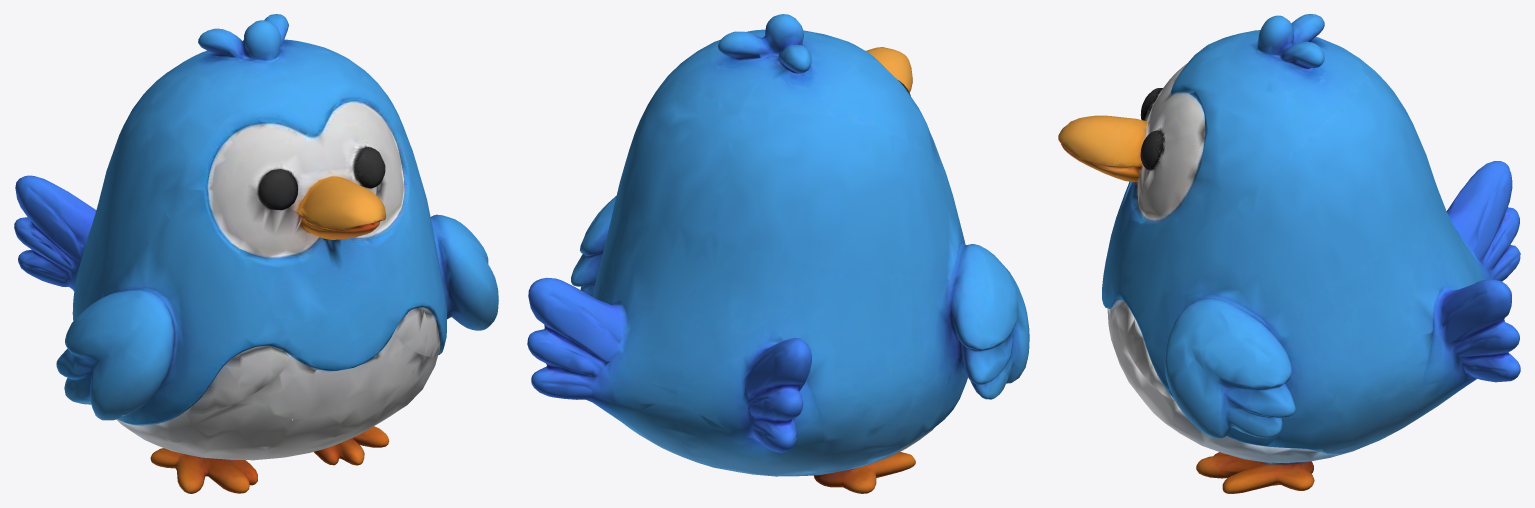
Rendered from p-pajaro.glb.
3 renders of one model, left to right at view 1: azimuth 30°, elevation 25°; view 2: azimuth 150°, elevation 25°; view 3: azimuth 270°, elevation 25°, orthographic. The views are drawn at different scales.
Visible parts, largest first — view 1: tripo_node_7e73505d-b734-4962-8386-64d16e0b7a57; view 2: tripo_node_7e73505d-b734-4962-8386-64d16e0b7a57; view 3: tripo_node_7e73505d-b734-4962-8386-64d16e0b7a57.
Part boxes in pixels (left/top/right/bottom): tripo_node_7e73505d-b734-4962-8386-64d16e0b7a57: left=14, top=14, right=498, bottom=493; tripo_node_7e73505d-b734-4962-8386-64d16e0b7a57: left=527, top=14, right=1029, bottom=493; tripo_node_7e73505d-b734-4962-8386-64d16e0b7a57: left=1058, top=14, right=1520, bottom=493.
Bounding box in the file's own units: 0.9813 × 0.9996 × 0.9713.
Materials: 1 (1 with a texture image).
